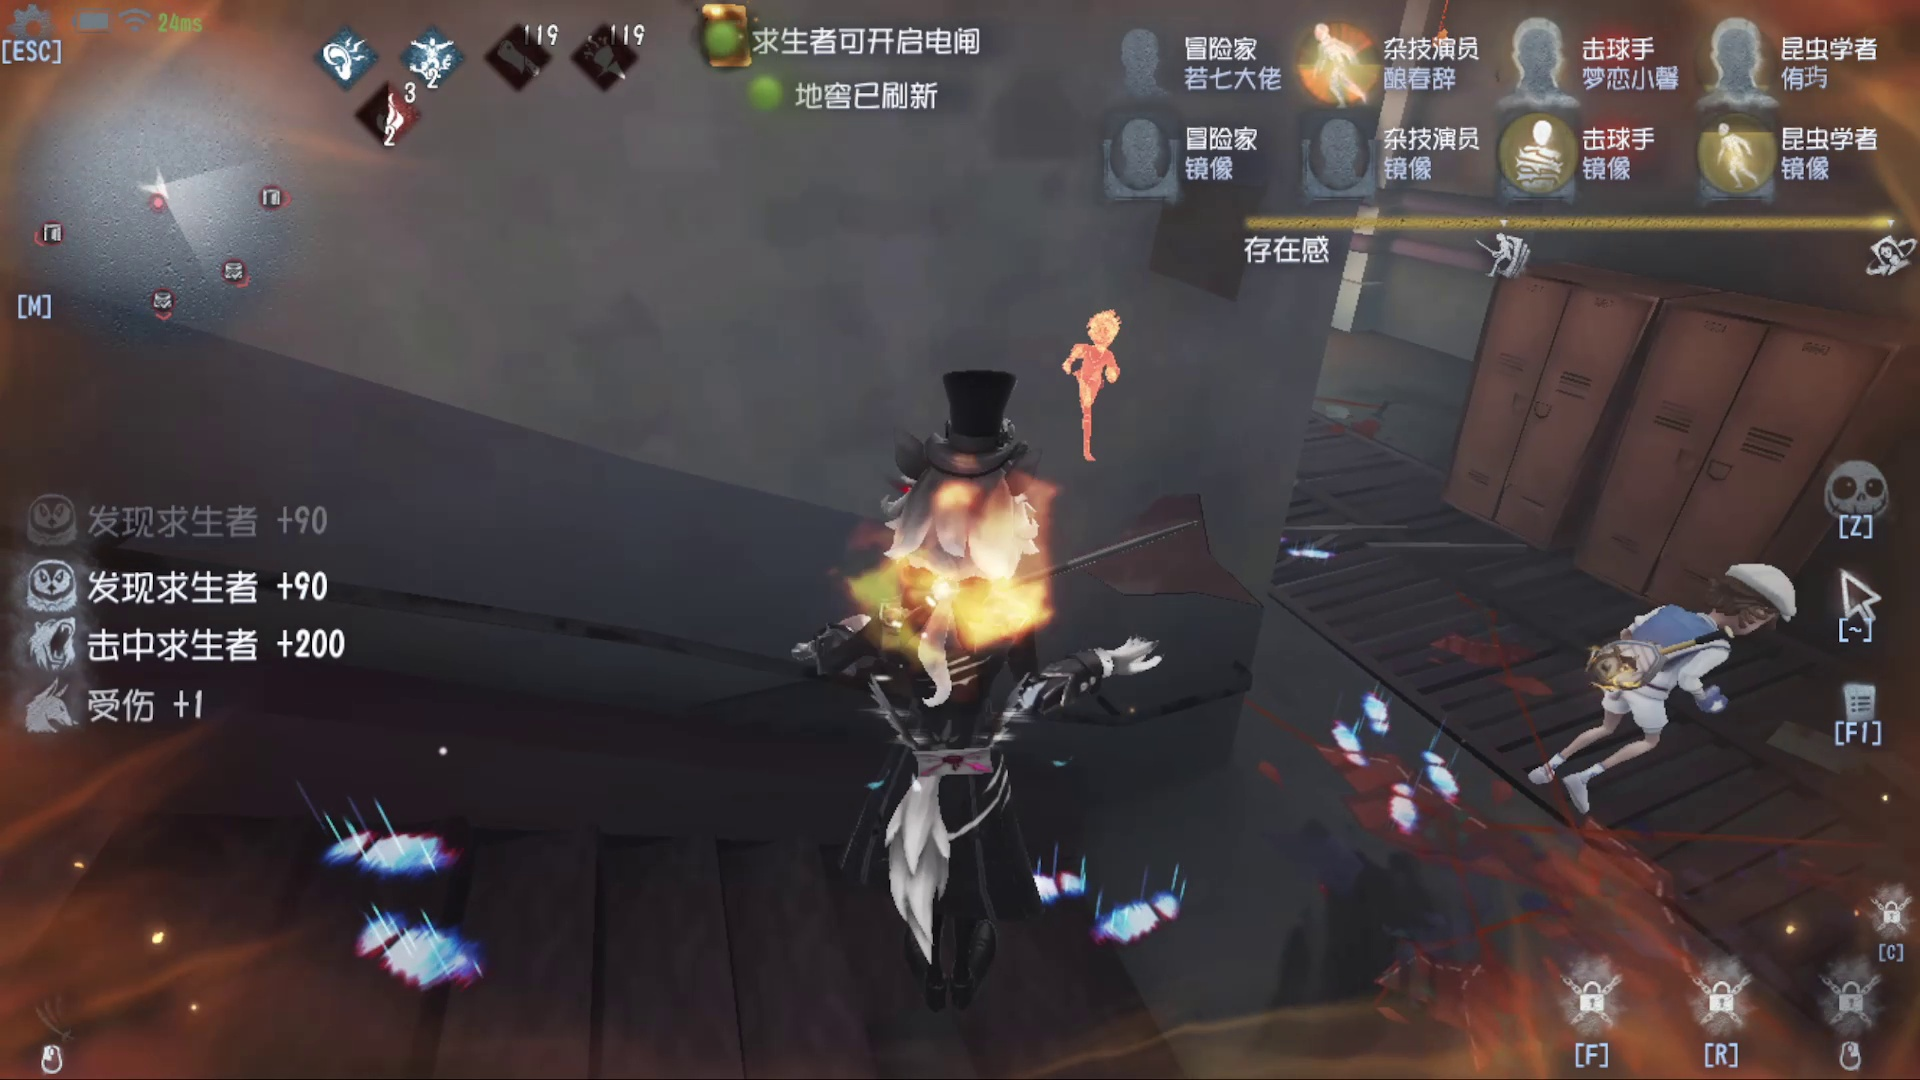求生者: (1539, 495, 1760, 828), (1036, 294, 1166, 492)
